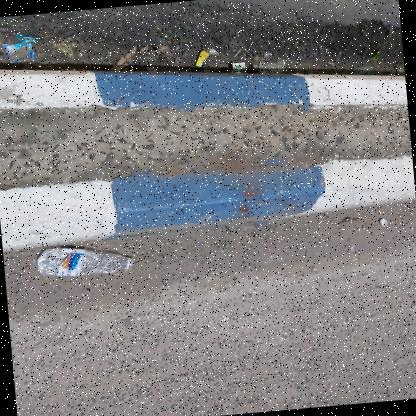Clear plastic bottle: (37, 248, 134, 276)
Other plastic: (3, 44, 36, 63), (17, 33, 40, 44), (196, 50, 210, 67), (232, 62, 246, 73)
Plastic bottle cap: (379, 219, 387, 227)
